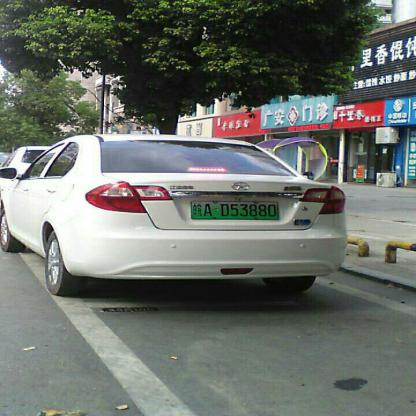lp: (190, 200, 279, 219)
